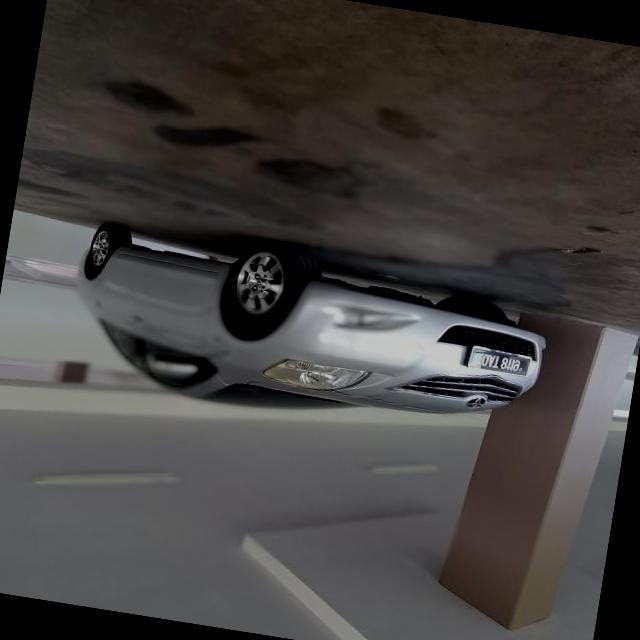ToyotaVios: (59, 210, 557, 454)
